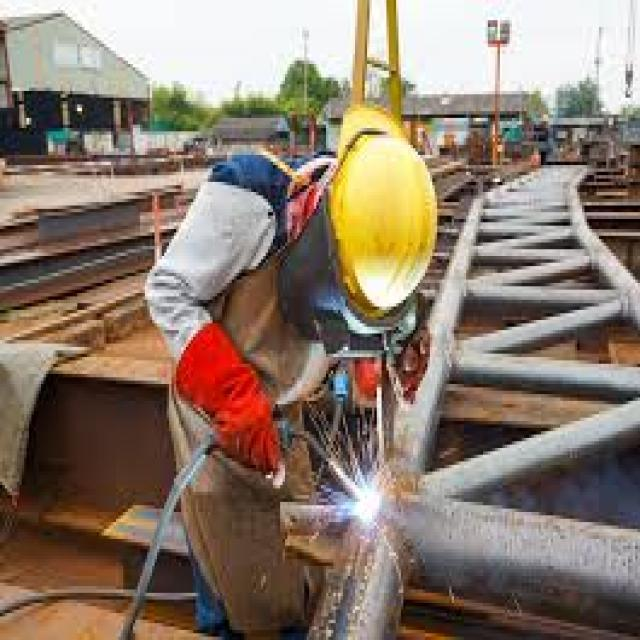welding: (354, 479, 382, 524)
